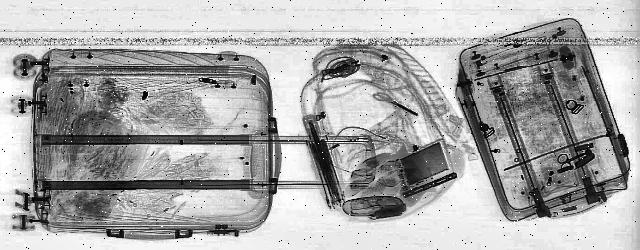Scissors: (541, 150, 601, 170)
